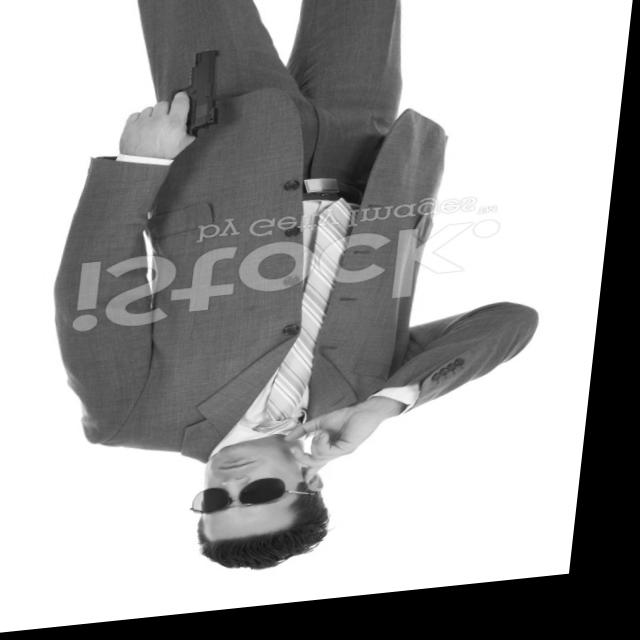handgun: (164, 52, 226, 146)
